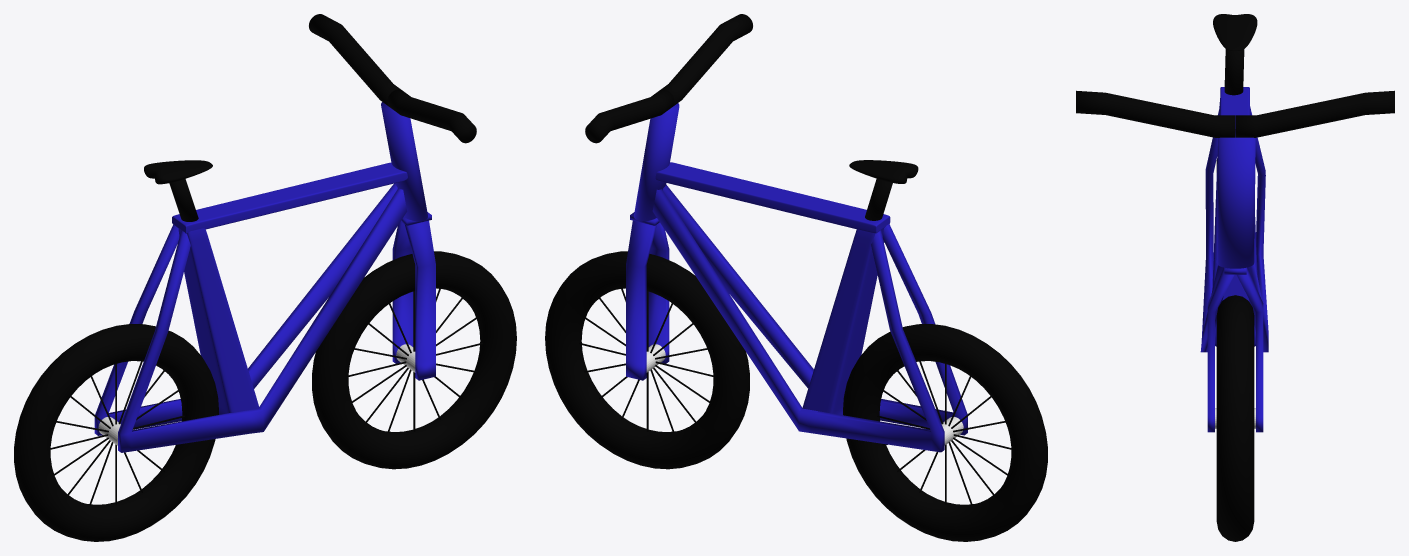
Rendered from Fahrrad.fbx.
3 renders of one model, left to right at view 1: azimuth 30°, elevation 25°; view 2: azimuth 150°, elevation 25°; view 3: azimuth 270°, elevation 25°, orthographic. The views are drawn at different scales.
Parts seen in each view (by area): view 1: Torus.002, Torus.004, Cube.004, Cube.003, Cube.006, Cube.005, Cylinder.020, Cube, Cylinder.018, Cube.001, Cube.007, Cylinder.019; view 2: Torus.002, Torus.004, Cube.003, Cube.004, Cube.006, Cube.005, Cylinder.020, Cube.001, Cylinder.018, Cube, Cube.007, Cylinder.019; view 3: Torus.002, Cylinder.020, Cylinder.018, Cube.004, Cube.003, Cube, Cube.001, Cube.007, Cube.006, Cylinder.019, Cube.005.
Boxes of the visible parts, x1,y1,x2,y2 form: Torus.002: (312, 251, 516, 469); Torus.004: (14, 324, 218, 541); Cube.004: (118, 188, 407, 452); Cube.003: (94, 183, 397, 435); Cube.006: (178, 228, 258, 414); Cube.005: (172, 162, 407, 233); Cylinder.020: (309, 14, 476, 143); Cube: (404, 220, 435, 380); Cylinder.018: (381, 102, 427, 221); Cube.001: (392, 221, 413, 363); Cube.007: (144, 160, 212, 184); Cylinder.019: (169, 179, 198, 221); Torus.002: (545, 251, 749, 469); Torus.004: (843, 324, 1047, 541); Cube.003: (652, 189, 944, 452); Cube.004: (663, 184, 967, 435); Cube.006: (802, 228, 884, 415); Cube.005: (655, 162, 890, 233); Cylinder.020: (585, 14, 752, 143); Cube.001: (626, 220, 656, 380); Cylinder.018: (634, 103, 679, 221); Cube: (648, 222, 669, 363); Cube.007: (849, 160, 918, 183); Cylinder.019: (865, 179, 892, 220); Torus.002: (1216, 295, 1254, 541); Cylinder.020: (1076, 90, 1394, 137); Cylinder.018: (1216, 129, 1255, 268); Cube.004: (1200, 109, 1223, 352); Cube.003: (1247, 108, 1268, 352); Cube: (1207, 268, 1234, 432); Cube.001: (1237, 268, 1263, 432); Cube.007: (1213, 14, 1257, 50); Cube.006: (1212, 98, 1257, 346); Cylinder.019: (1224, 49, 1244, 95); Cube.005: (1220, 87, 1249, 128).
Bounding box in the file's own units: 1.64 × 1.26 × 0.8526.
